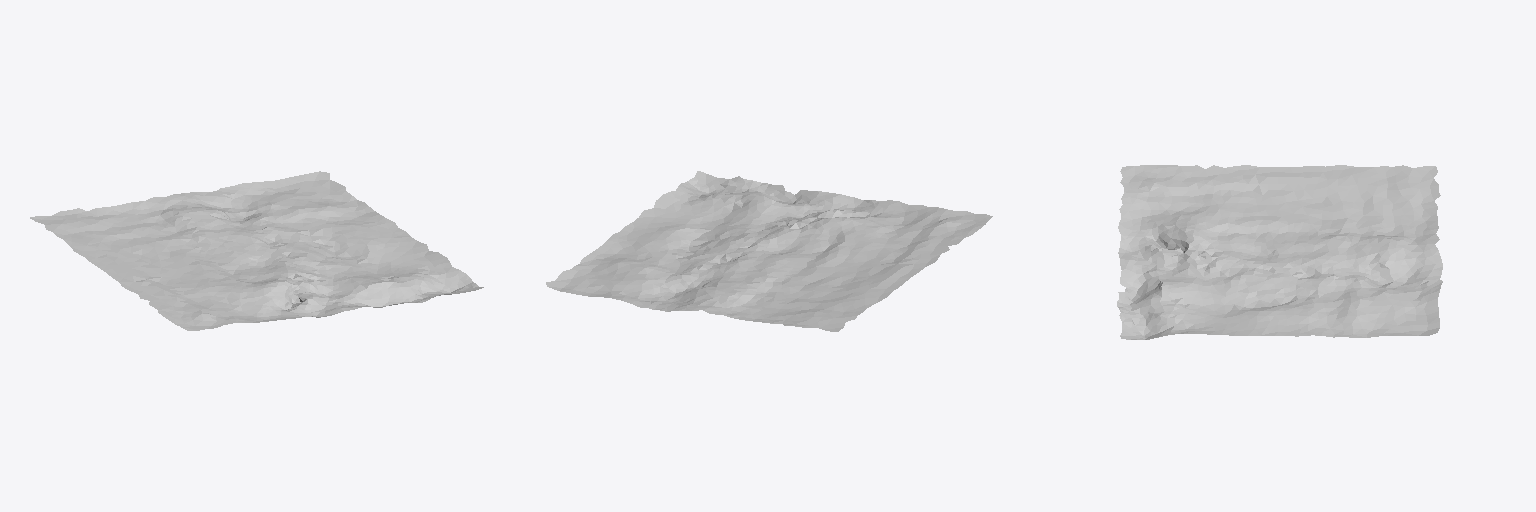
Rendered from groundBase.obj.
3 views of the same model, side by side, from view 1: azimuth 30°, elevation 25°; view 2: azimuth 150°, elevation 25°; view 3: azimuth 270°, elevation 25° (orthographic).
Visible parts, largest first — view 1: Plane.003_Plane.002; view 2: Plane.003_Plane.002; view 3: Plane.003_Plane.002.
Part boxes in pixels (left/top/right/bottom): Plane.003_Plane.002: left=30, top=171, right=483, bottom=330; Plane.003_Plane.002: left=546, top=171, right=992, bottom=331; Plane.003_Plane.002: left=1117, top=165, right=1442, bottom=339.
Size of the model in its own units: 189 by 21.86 by 179.